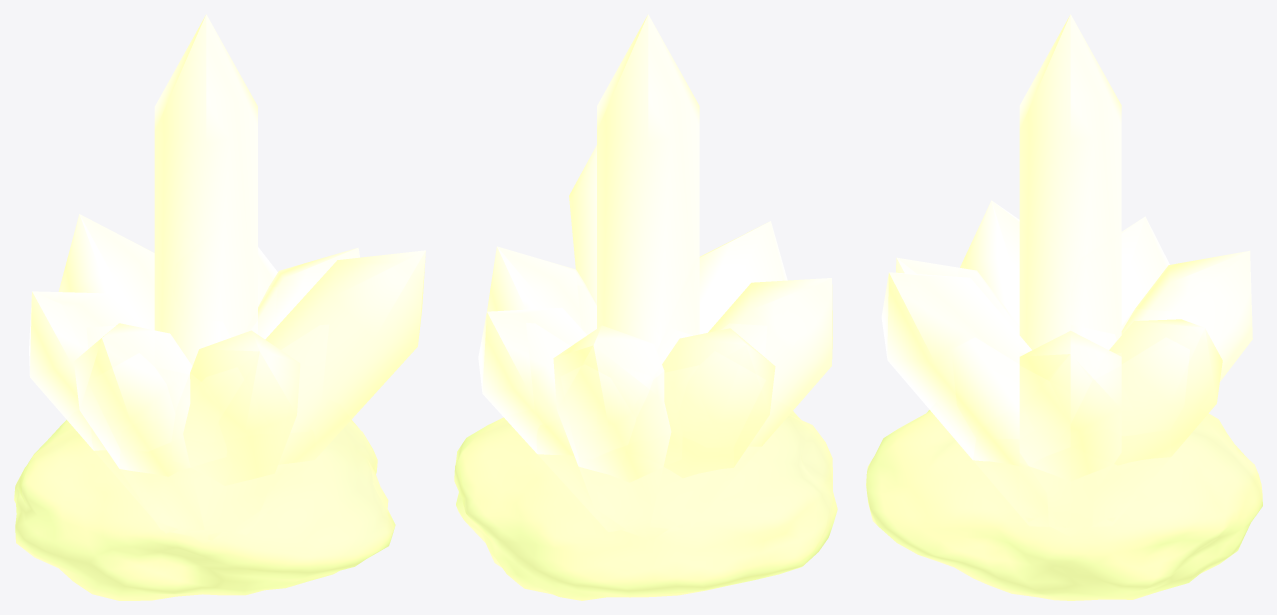
File: flash.glb
3 renders of one model, left to right at view 1: azimuth 30°, elevation 25°; view 2: azimuth 150°, elevation 25°; view 3: azimuth 270°, elevation 25°, orthographic.
Visible parts, largest first — view 1: flash; view 2: flash; view 3: flash.
Boxes of the visible parts, <box> form: flash: <box>14,14,425,600</box>; flash: <box>454,14,837,600</box>; flash: <box>866,14,1262,600</box>.
Size of the model in its own units: 0.0573 by 0.09 by 0.0591.
